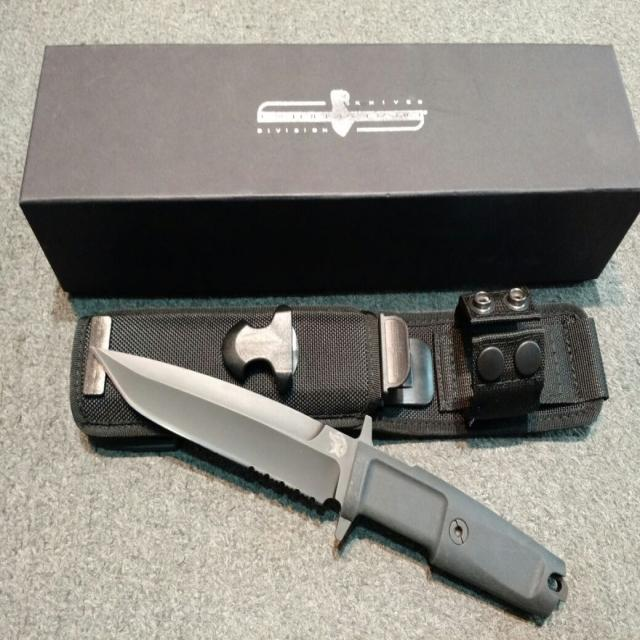knife: (89, 344, 574, 625)
